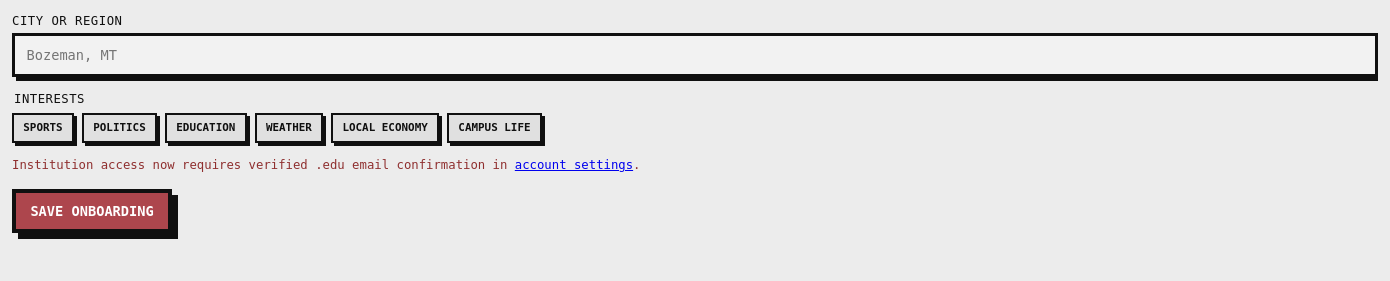
Test case: OnboardingForm › saves city, selected interests, and completion timestamp to auth metadata
Type " Bozeman, MT " into the field labelled "City or region" at x=695, y=55, box [12,33,1378,77]
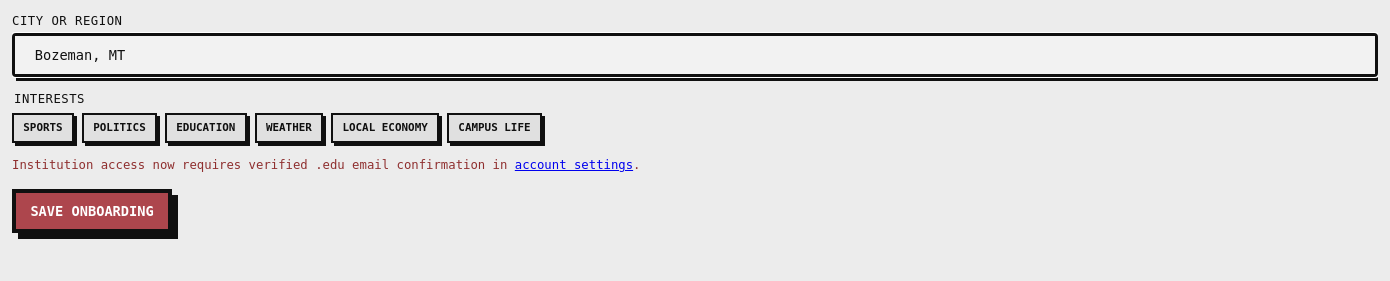
Click the button "Sports" at x=43, y=128, box [12,113,74,143]
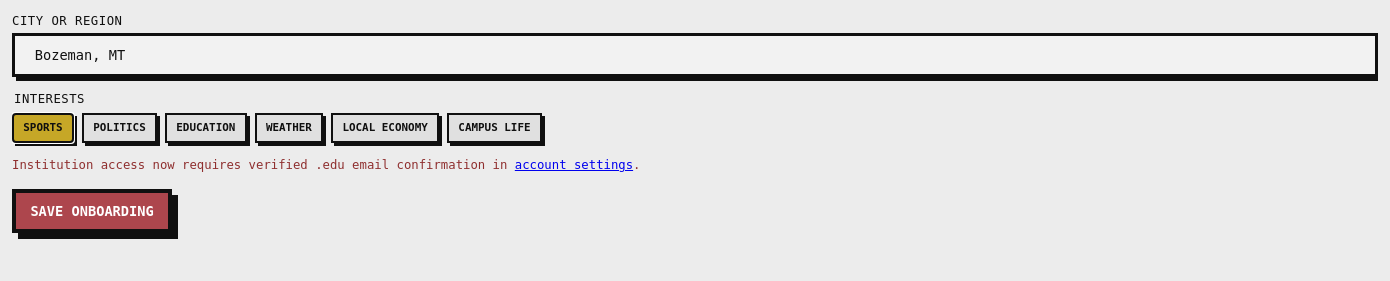
Click the button "Campus Life" at x=494, y=128, box [447,113,542,143]
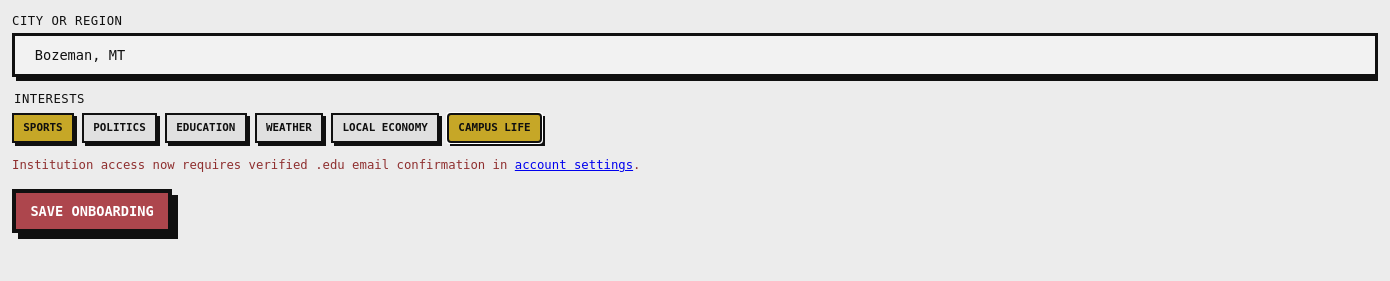
Click the button "SAVE ONBOARDING" at x=92, y=211, box [12,189,172,233]
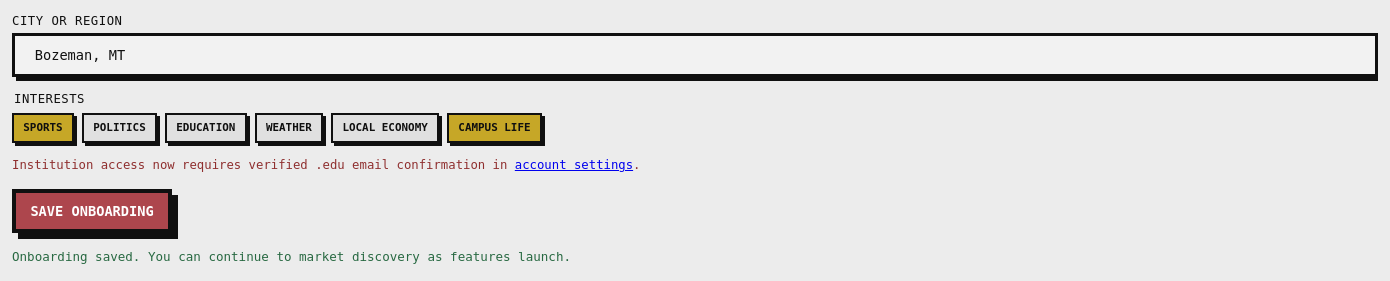
Result: the text "Onboarding saved. You can continue to market discovery as features launch." is shown at [12,249,571,264]
